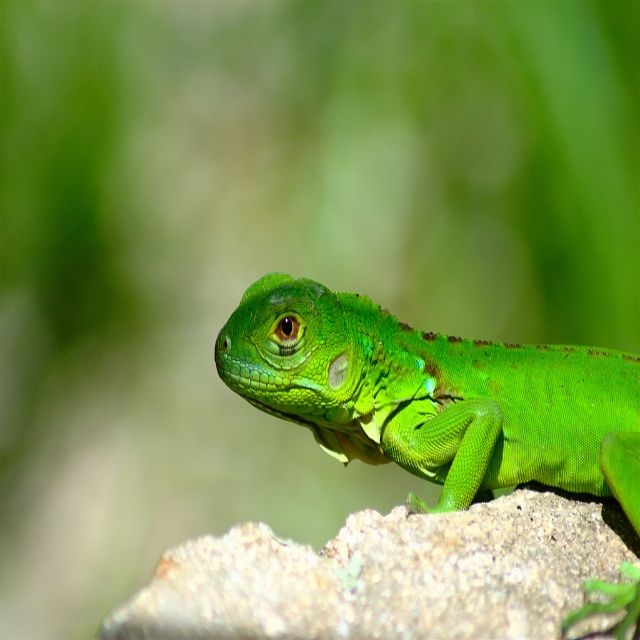Lizard: (214, 271, 640, 640)
